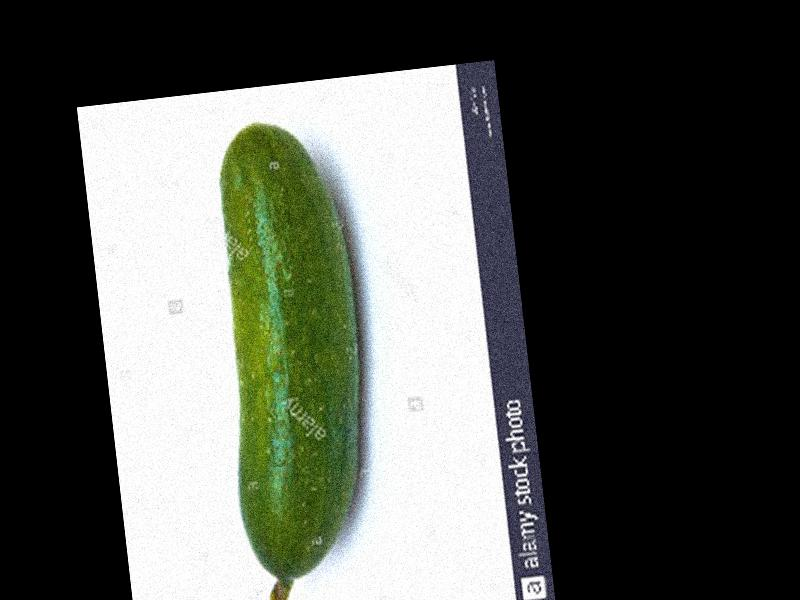Cucumber: (196, 112, 387, 600)
